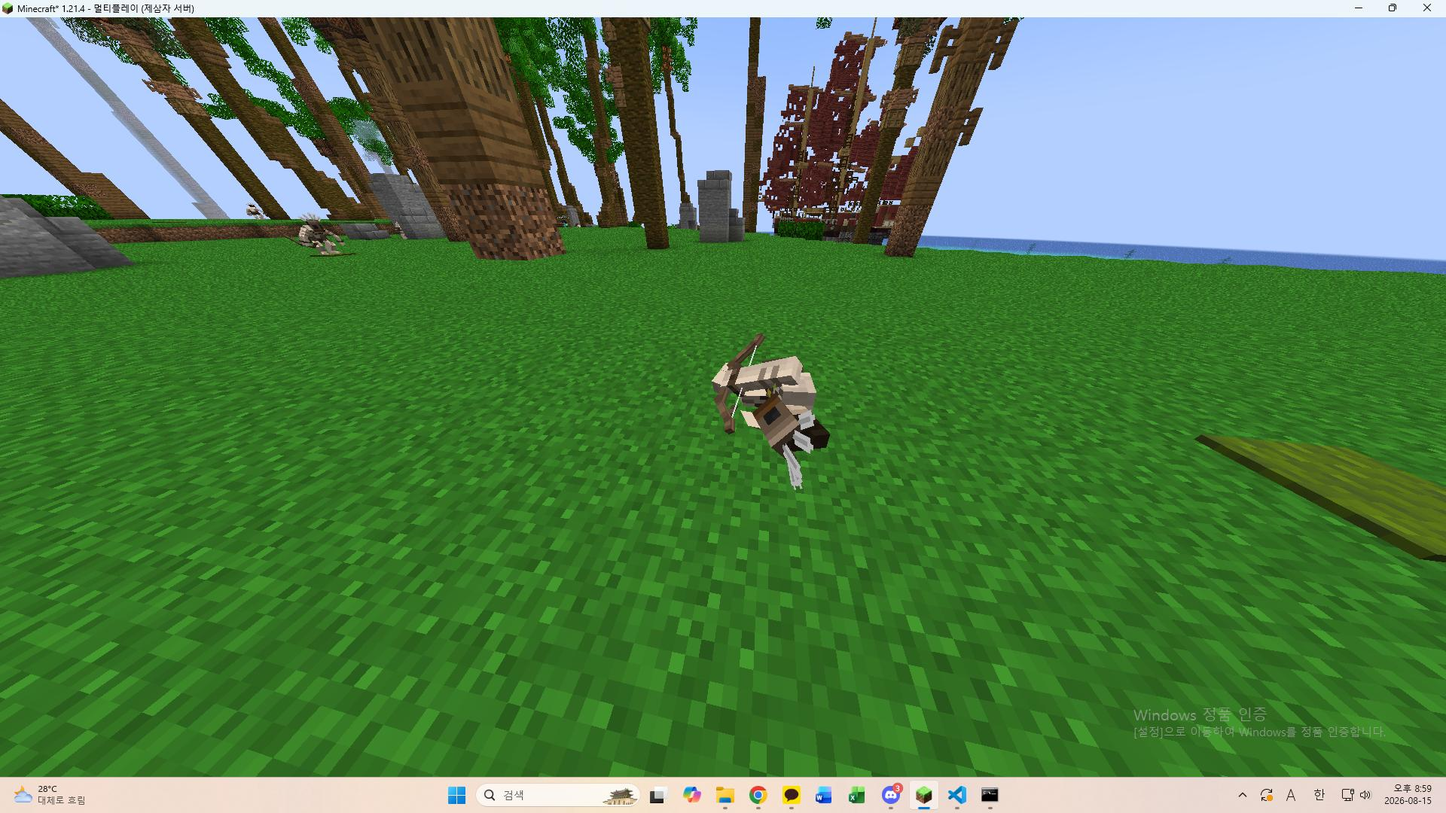bow_indian: (685, 318, 865, 483)
